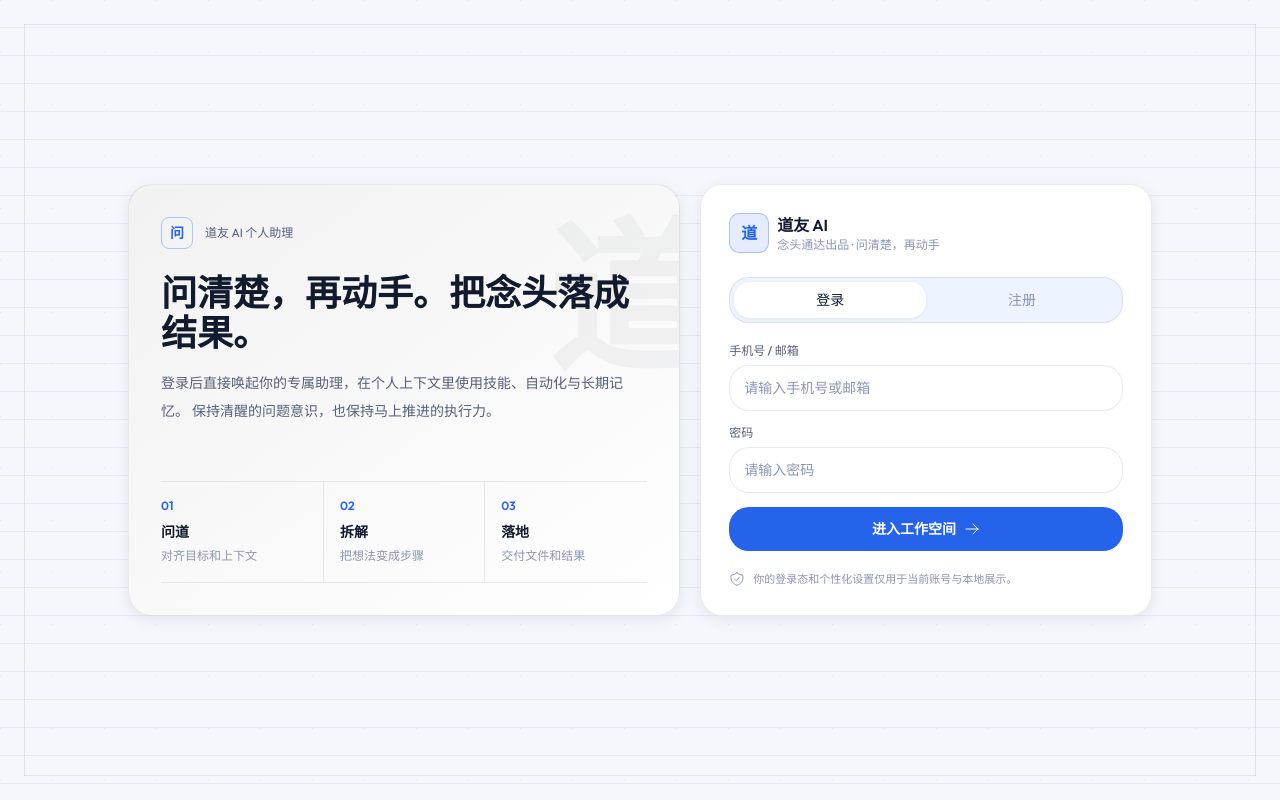
Scenario: LoginPage › disables registration when the public gate is closed
Step 1. Click the button "注册" → (1022, 300), box [926,282,1118,318]
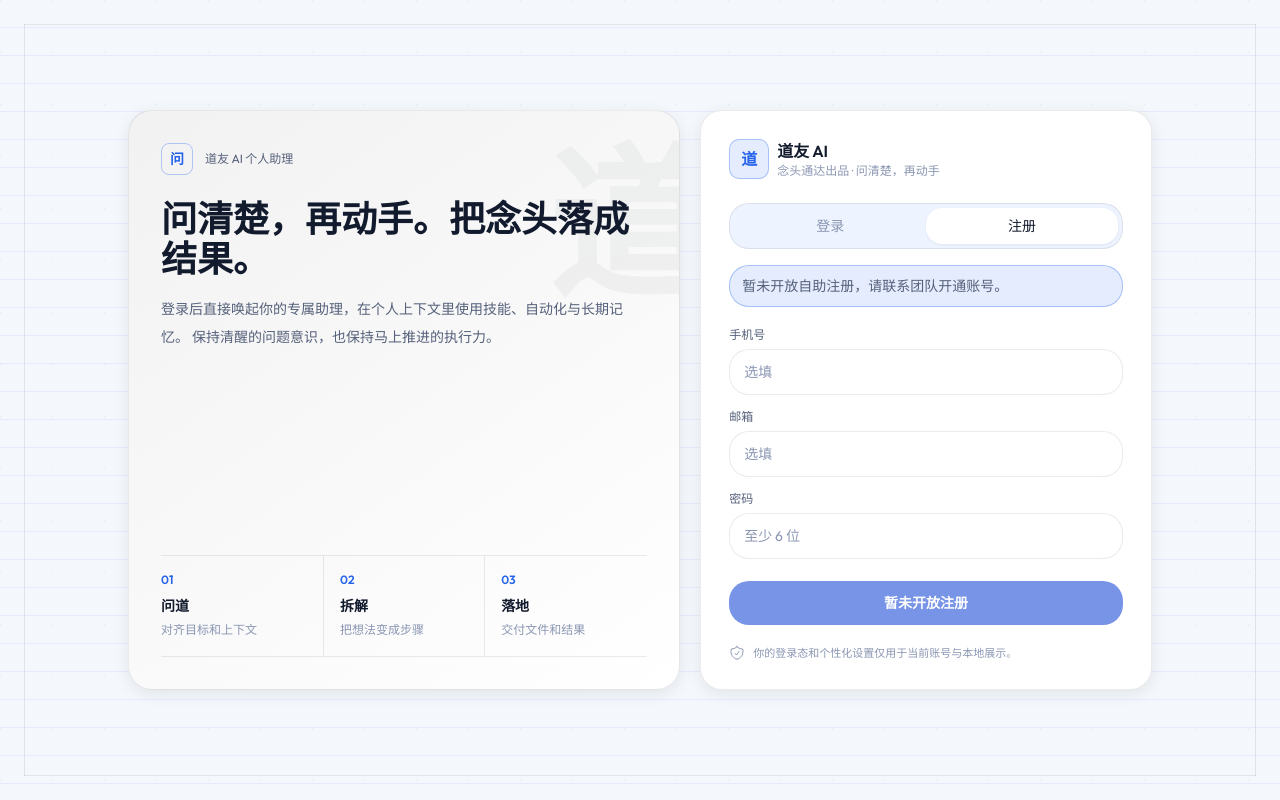
Result: the text "暂未开放自助注册，请联系团队开通账号。" is shown at [729,265,1123,307]
Result: the number of fields with placeholder "选填" is 2 at [729,349,1123,395]; [729,431,1123,477]
Result: the field with placeholder "选填" below "手机号" is disabled at [729,349,1123,395]
